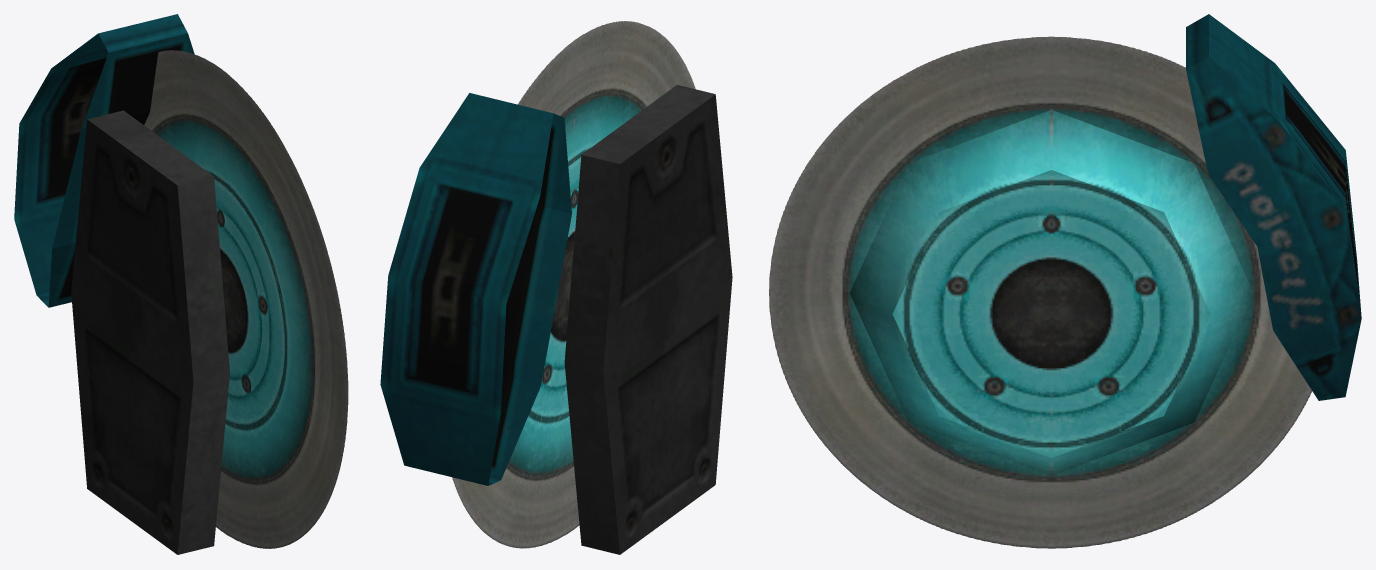
File: toyota_soarer_front_left_brake.fbx
3 renders of one model, left to right at view 1: azimuth 30°, elevation 25°; view 2: azimuth 150°, elevation 25°; view 3: azimuth 270°, elevation 25°, orthographic. The views are drawn at different scales.
Parts seen in each view (by area): view 1: x0_hub_caliper_fl, x0_disc_fl; view 2: x0_hub_caliper_fl, x0_disc_fl; view 3: x0_disc_fl, x0_hub_caliper_fl.
Part boxes in pixels (x1,y1,x2,y2): x0_hub_caliper_fl: [14, 14, 229, 554]; x0_disc_fl: [144, 50, 348, 548]; x0_hub_caliper_fl: [380, 85, 732, 554]; x0_disc_fl: [452, 21, 695, 548]; x0_disc_fl: [769, 36, 1311, 548]; x0_hub_caliper_fl: [1186, 14, 1361, 400].
Size of the model in its own units: 0.1164 by 0.3597 by 0.372.
